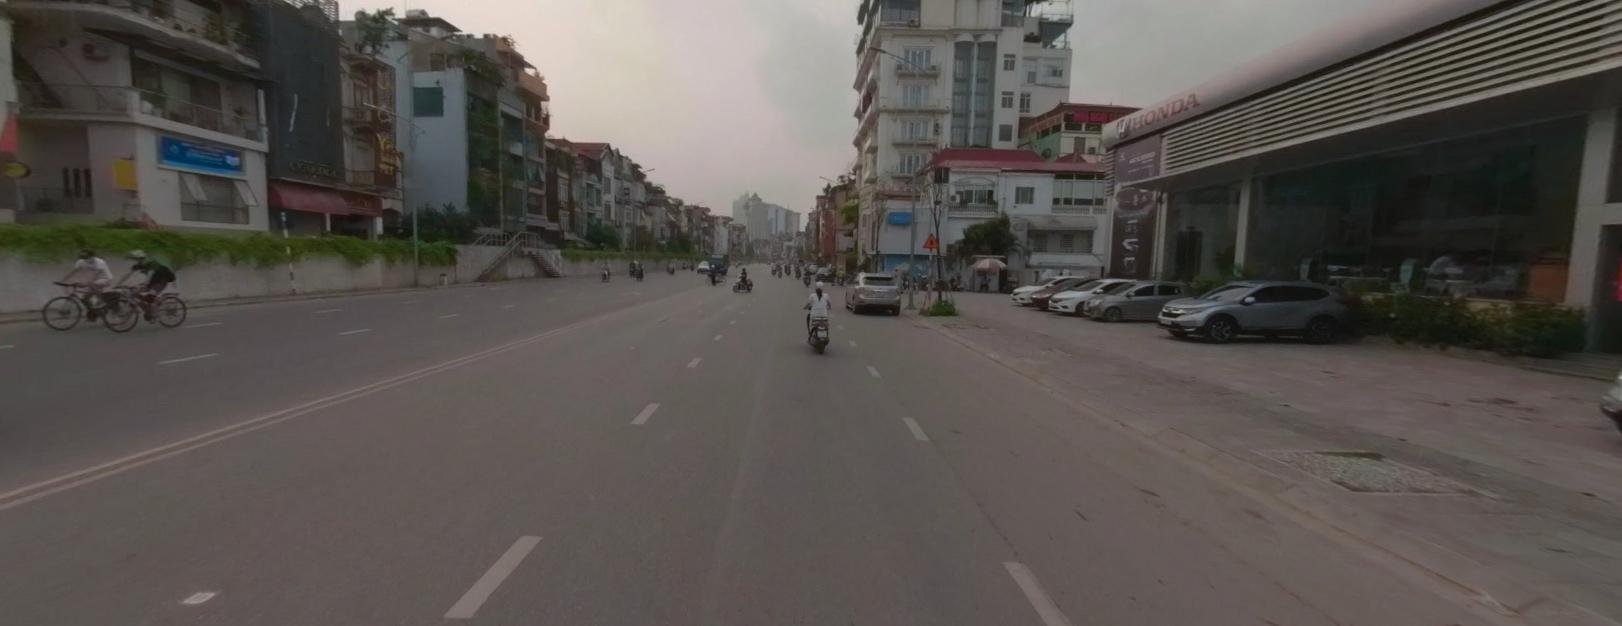Nguy hiem: (921, 232, 940, 248)
